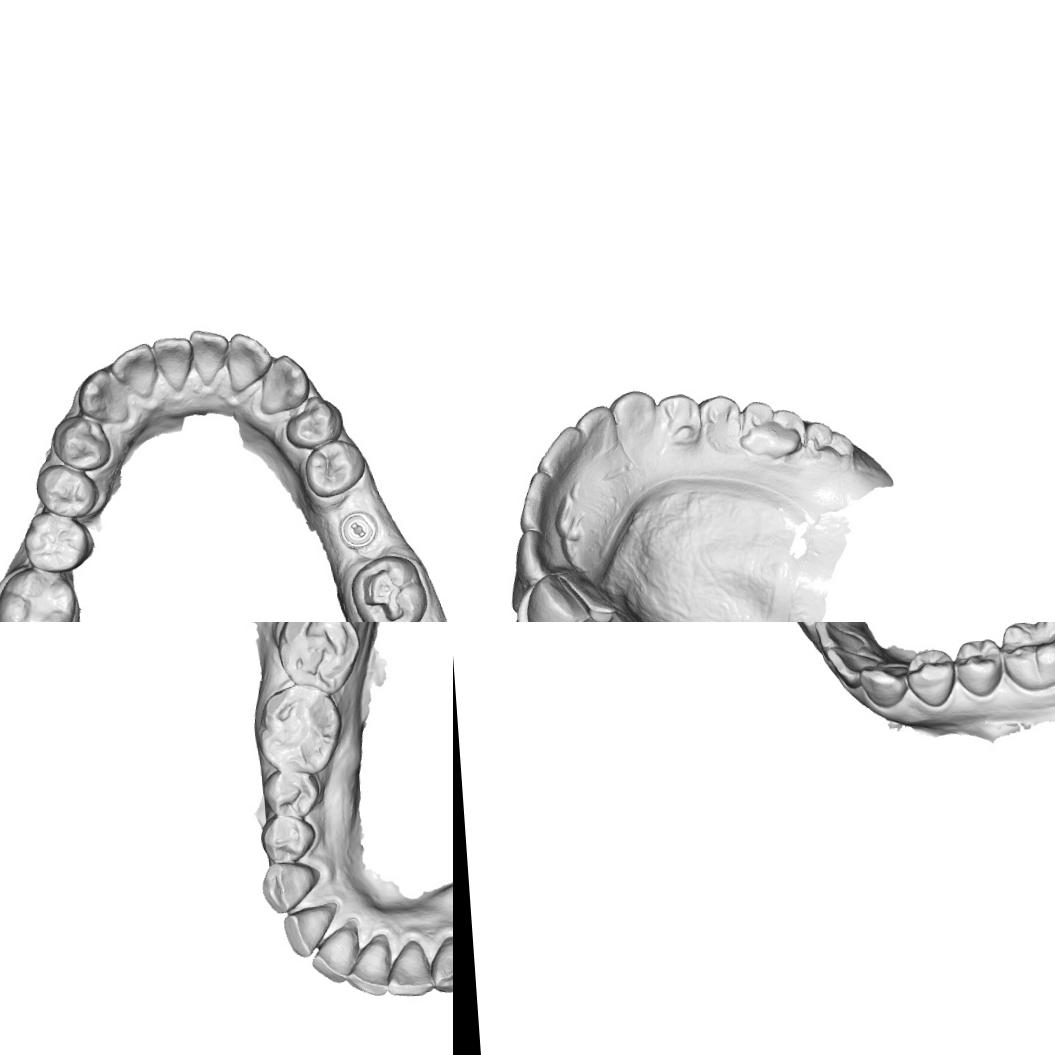canine: (255, 352, 312, 418), (256, 858, 322, 914), (522, 572, 594, 622), (608, 386, 664, 450), (74, 366, 130, 426), (856, 662, 913, 709), (428, 931, 453, 994)
implant_minus: (335, 507, 380, 551)
incisor: (514, 467, 572, 530), (342, 934, 396, 999), (306, 922, 360, 986), (223, 328, 275, 393), (106, 340, 158, 401), (384, 938, 432, 999), (282, 905, 336, 959), (824, 640, 882, 690), (186, 325, 232, 388), (150, 334, 196, 393), (535, 423, 588, 474), (514, 530, 563, 583), (572, 402, 616, 454), (812, 622, 865, 661), (786, 622, 844, 641)
inlay: (357, 564, 412, 622)
molar: (254, 682, 342, 778), (271, 622, 364, 693), (735, 394, 807, 464), (0, 564, 82, 622), (997, 622, 1055, 693), (796, 416, 860, 473)
premolar: (21, 507, 99, 574), (300, 436, 368, 499), (33, 458, 100, 518), (49, 412, 112, 474), (282, 392, 345, 452), (904, 646, 959, 709), (952, 636, 1005, 699), (258, 768, 318, 822), (655, 387, 705, 449), (259, 813, 317, 866), (698, 393, 742, 444)
